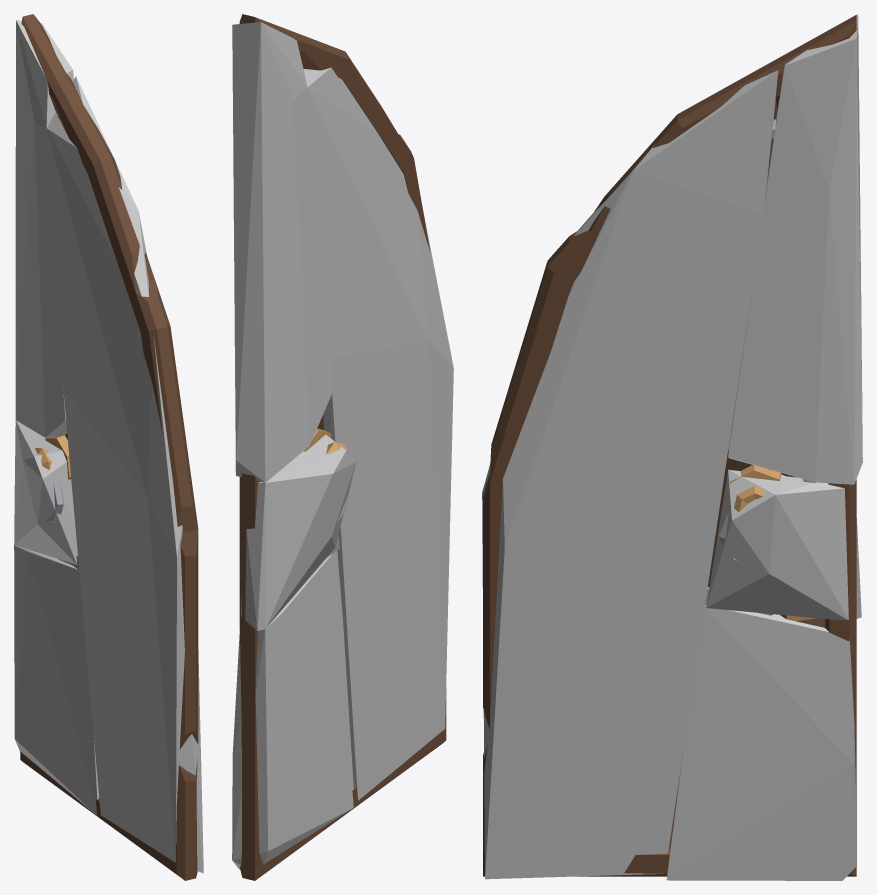
Rendered from SM_Bld_Double_Door_Right_03.fbx.
3 renders of one model, left to right at view 1: azimuth 30°, elevation 25°; view 2: azimuth 150°, elevation 25°; view 3: azimuth 270°, elevation 25°, orthographic. The views are drawn at different scales.
Visible parts, largest first — view 1: SM_Bld_Double_Door_Right_03_ConvexHulls, SM_Bld_Double_Door_Right_03; view 2: SM_Bld_Double_Door_Right_03_ConvexHulls, SM_Bld_Double_Door_Right_03; view 3: SM_Bld_Double_Door_Right_03_ConvexHulls, SM_Bld_Double_Door_Right_03.
Boxes of the visible parts, x1,y1,x2,y2 form: SM_Bld_Double_Door_Right_03_ConvexHulls: (14, 20, 203, 873); SM_Bld_Double_Door_Right_03: (20, 14, 198, 880); SM_Bld_Double_Door_Right_03_ConvexHulls: (232, 22, 453, 869); SM_Bld_Double_Door_Right_03: (239, 14, 446, 880); SM_Bld_Double_Door_Right_03_ConvexHulls: (482, 14, 862, 880); SM_Bld_Double_Door_Right_03: (483, 15, 856, 876).
Size of the model in its own units: 27.93 by 105 by 260.
Materials: 2 (1 with a texture image).
